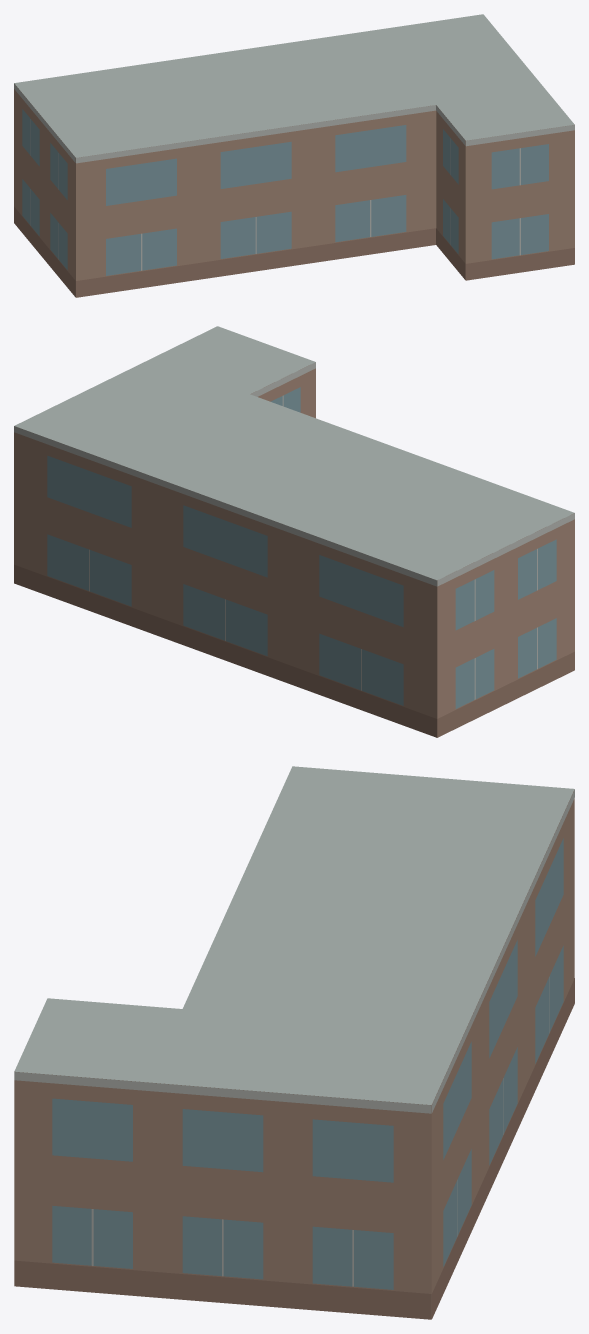
The model's file is survey-upis-32580351.glb.
The picture shows the model from 3 angles, top to bottom: view 1: azimuth 30°, elevation 25°; view 2: azimuth 150°, elevation 25°; view 3: azimuth 270°, elevation 25°; orthographic projection. The views are drawn at different scales.
Parts seen in each view (by area): view 1: survey-upis-32580351.tmp; view 2: survey-upis-32580351.tmp; view 3: survey-upis-32580351.tmp.
Boxes of the visible parts, x1,y1,x2,y2 form: survey-upis-32580351.tmp: [14, 14, 574, 297]; survey-upis-32580351.tmp: [14, 326, 574, 737]; survey-upis-32580351.tmp: [14, 766, 574, 1319].
Bounding box in the file's own units: 20.68 × 6.1 × 14.46.
